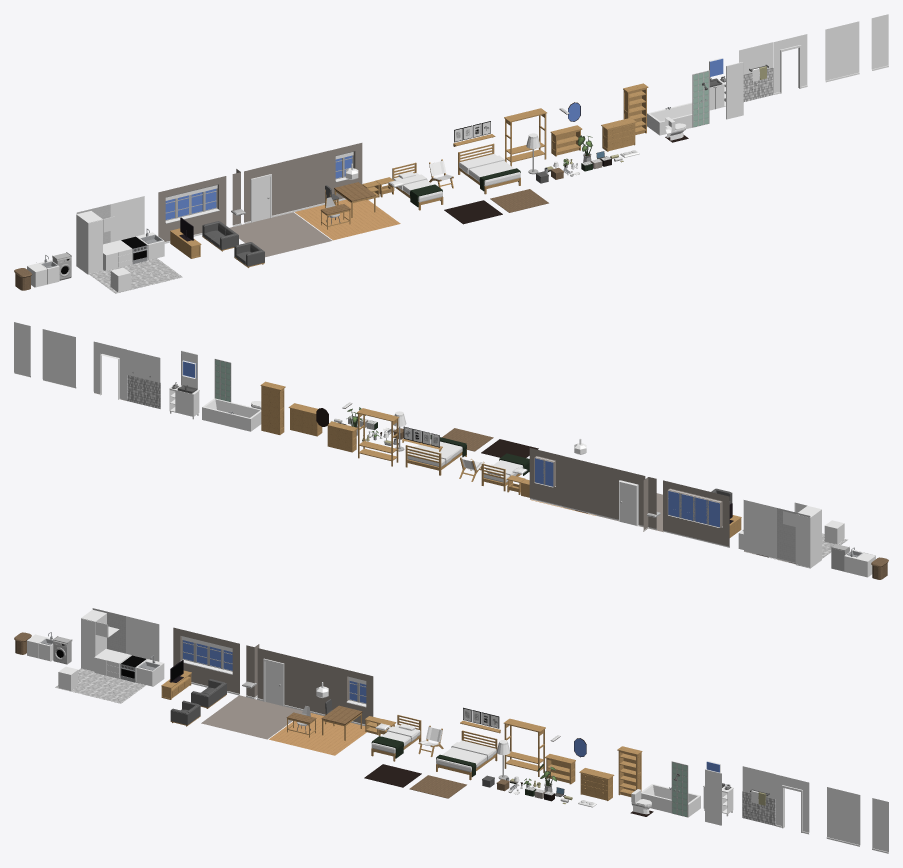
The model's file is minimal house.fbx.
3 views of the same model, one above another, from view 1: azimuth 30°, elevation 25°; view 2: azimuth 150°, elevation 25°; view 3: azimuth 330°, elevation 25° (orthographic). The views are drawn at different scales.
Parts seen in each view (by area): view 1: winow wall long, roof, floor, wall big .001, duble bead, wall big, cabnet, Object, floor.001, winow wall, wall big hex.001, single bead (+17 smaller); view 2: winow wall long, wall big .001, wall big, winow wall, wall big hex.001, Object, cabnet, bath, duble bead, bookshelf 2, wall door.002, Wardrobe (+13 smaller); view 3: winow wall long, roof, floor, wall big .001, duble bead, Object, floor.001, winow wall, wall big, wall big hex.001, single bead, cabnet (+21 smaller).
Part boxes in pixels (x1,y1,x2,y2): winow wall long: [158, 176, 226, 243]; roof: [229, 212, 332, 257]; floor: [295, 199, 400, 240]; wall big .001: [825, 21, 859, 82]; duble bead: [458, 143, 520, 194]; wall big: [294, 151, 328, 211]; cabnet: [76, 211, 102, 274]; Object: [739, 42, 773, 101]; floor.001: [89, 258, 182, 293]; winow wall: [328, 143, 362, 201]; wall big hex.001: [110, 196, 144, 242]; single bead: [392, 162, 443, 210]; winow wall long: [663, 480, 729, 547]; wall big .001: [42, 329, 76, 388]; wall big: [562, 456, 596, 515]; winow wall: [529, 448, 563, 507]; wall big hex.001: [743, 500, 777, 559]; Object: [127, 350, 160, 408]; cabnet: [795, 506, 821, 568]; bath: [202, 398, 261, 431]; duble bead: [405, 435, 466, 475]; bookshelf 2: [260, 381, 285, 434]; wall door.002: [93, 341, 127, 400]; Wardrobe: [357, 408, 399, 466]; winow wall long: [173, 627, 239, 695]; roof: [201, 695, 302, 739]; floor: [269, 713, 366, 755]; wall big .001: [826, 787, 860, 846]; duble bead: [436, 730, 497, 780]; Object: [742, 766, 775, 825]; floor.001: [55, 668, 146, 703]; winow wall: [340, 668, 373, 725]; wall big: [307, 660, 339, 715]; wall big hex.001: [126, 616, 159, 661]; single bead: [371, 715, 421, 761]; cabnet: [81, 609, 106, 671].
Bounding box in the file's own units: 5190 × 315 × 613.
Materials: 20 (17 with a texture image).
